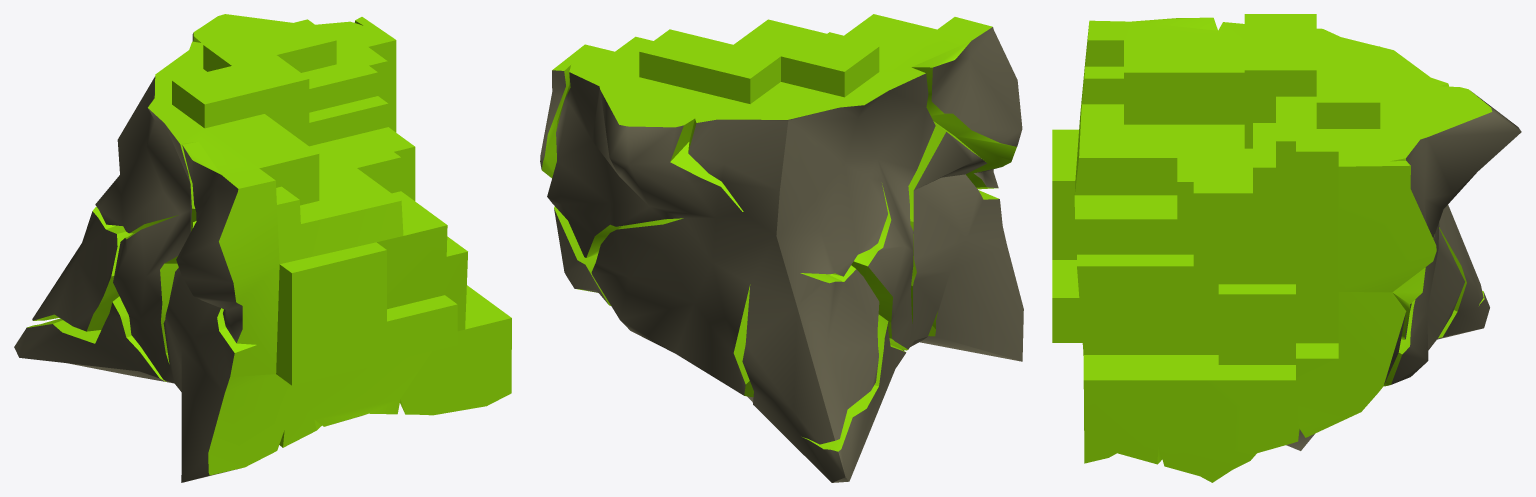
The model's file is obj_harvests_nonepart_tier5_p07.fbx.
3 views of the same model, side by side, from view 1: azimuth 30°, elevation 25°; view 2: azimuth 150°, elevation 25°; view 3: azimuth 270°, elevation 25° (orthographic). The views are drawn at different scales.
Visible parts, largest first — view 1: gn_p07.001; view 2: gn_p07.001; view 3: gn_p07.001.
Boxes of the visible parts, <box> form: gn_p07.001: <box>14,14,511,482</box>; gn_p07.001: <box>540,14,1023,482</box>; gn_p07.001: <box>1052,14,1521,482</box>.
Bounding box in the file's own units: 9.61 × 10.67 × 11.16.
